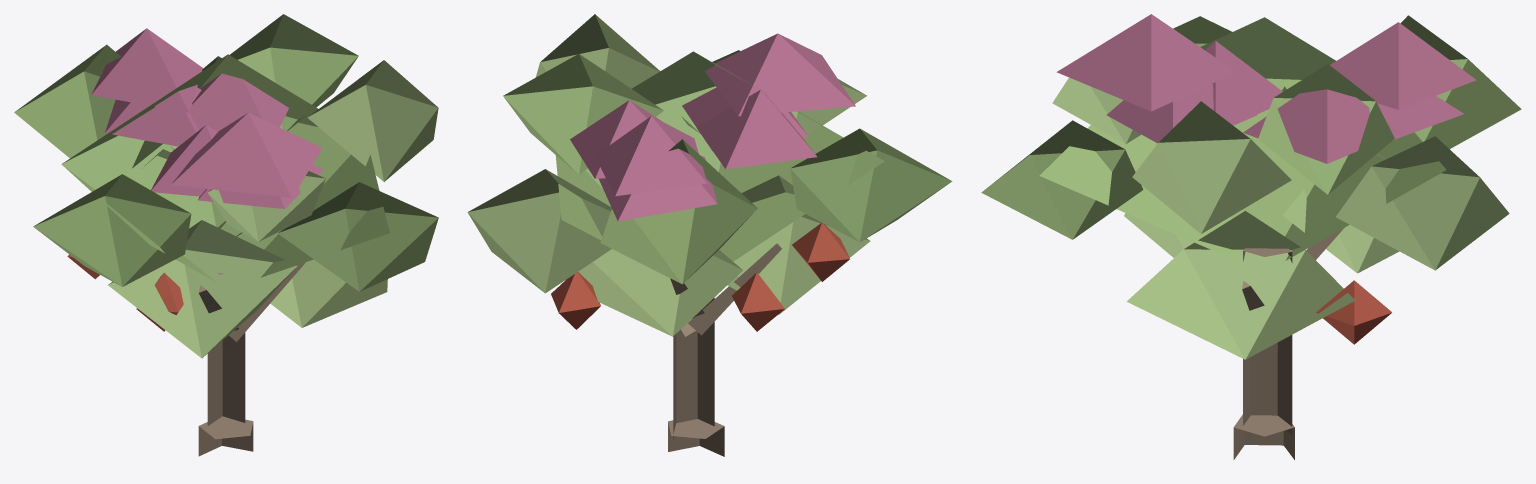
The model's file is tree.sub.tea_oil__bloom.glb.
3 views of the same model, side by side, from view 1: azimuth 30°, elevation 25°; view 2: azimuth 150°, elevation 25°; view 3: azimuth 270°, elevation 25° (orthographic). The views are drawn at different scales.
Parts seen in each view (by area): view 1: tree.sub.tea_oil__bloom; view 2: tree.sub.tea_oil__bloom; view 3: tree.sub.tea_oil__bloom.
Boxes of the visible parts, <box> form: tree.sub.tea_oil__bloom: <box>14,14,438,456</box>; tree.sub.tea_oil__bloom: <box>467,14,952,456</box>; tree.sub.tea_oil__bloom: <box>981,14,1521,459</box>.
Size of the model in its own units: 7.08 by 7.16 by 7.99.
